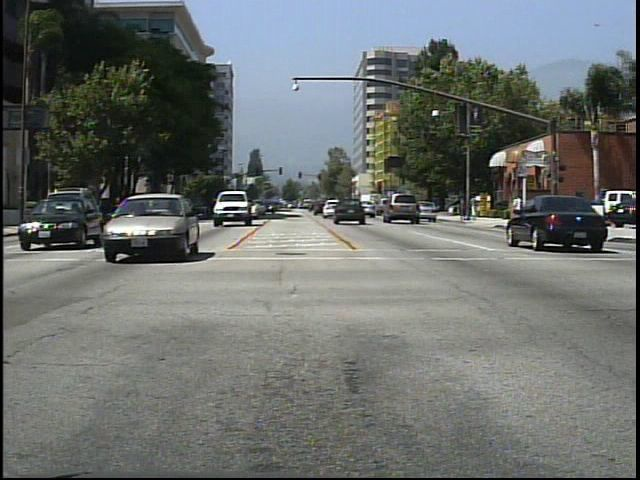person: (508, 192, 528, 231), (470, 190, 482, 224)
